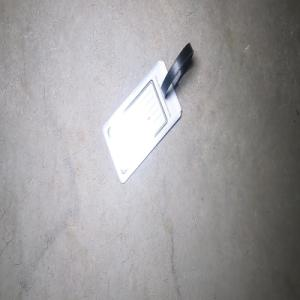LuggageTag: (101, 41, 194, 184)
